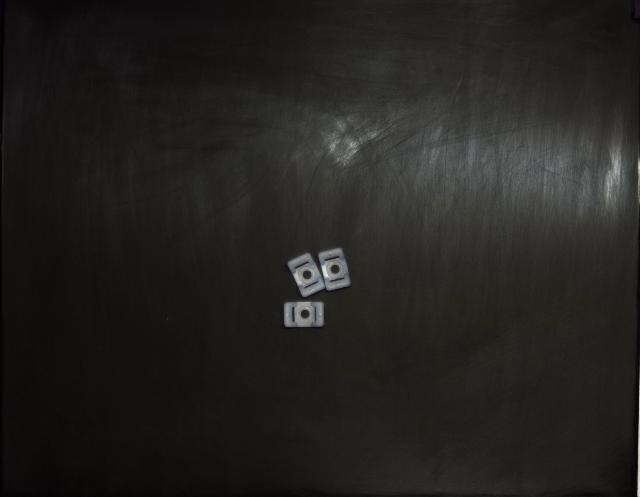first_side: (288, 254, 325, 298), (319, 249, 351, 291), (284, 301, 325, 328)
